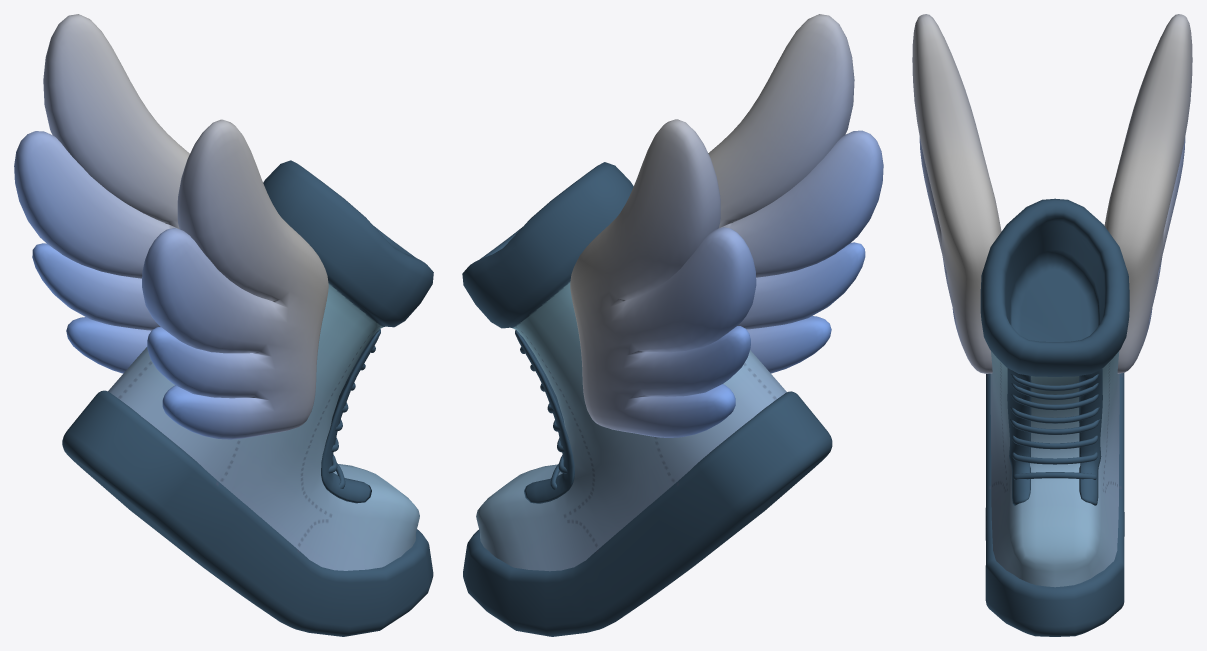
Rendered from SpeedWingUPDATED.fbx.
The picture shows the model from 3 angles, left to right: view 1: azimuth 30°, elevation 25°; view 2: azimuth 150°, elevation 25°; view 3: azimuth 270°, elevation 25°; orthographic projection. The views are drawn at different scales.
Parts seen in each view (by area): view 1: Cube.001; view 2: Cube.001; view 3: Cube.001.
Boxes of the visible parts, x1=… form: Cube.001: x1=14, y1=14, x2=433, y2=636; Cube.001: x1=462, y1=14, x2=883, y2=636; Cube.001: x1=912, y1=14, x2=1192, y2=636.
Bounding box in the file's own units: 326 × 519 × 257.
2 materials, 2 textured.
